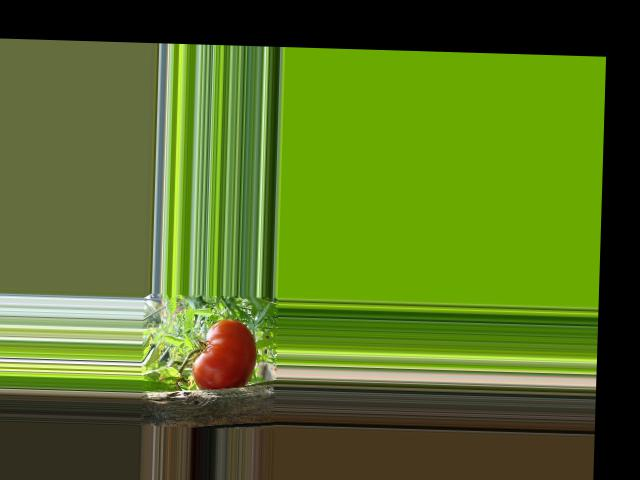tomato: (191, 317, 256, 391)
